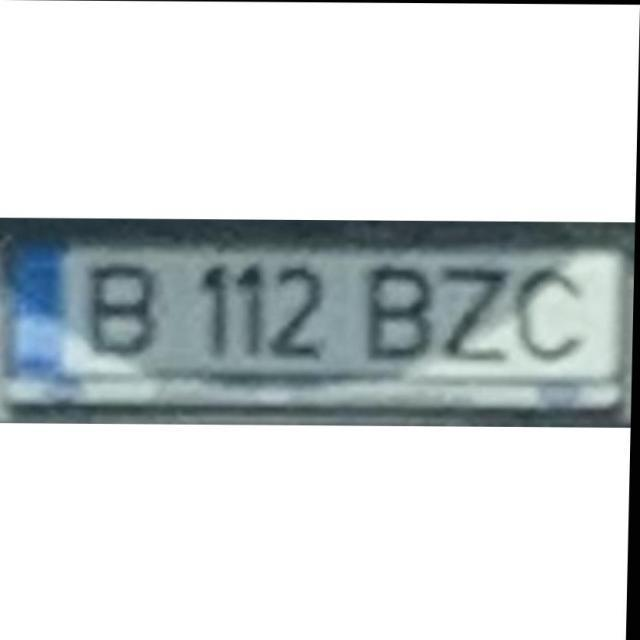license-plates: (0, 220, 634, 427)
